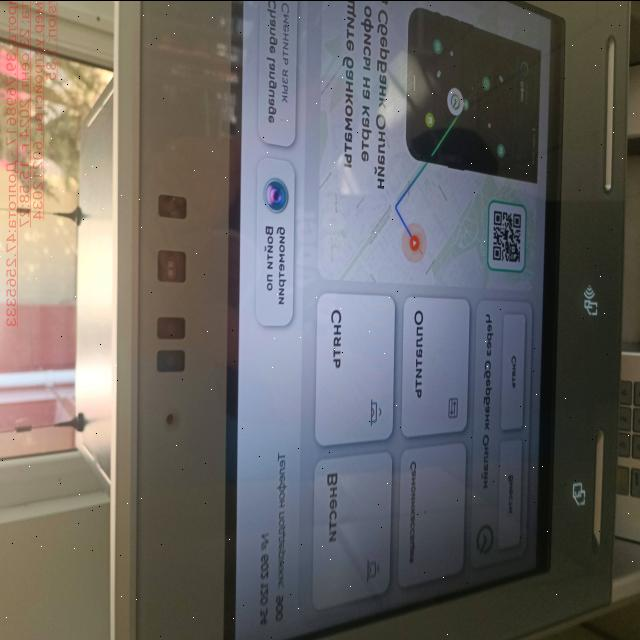bank: (73, 0, 640, 640)
